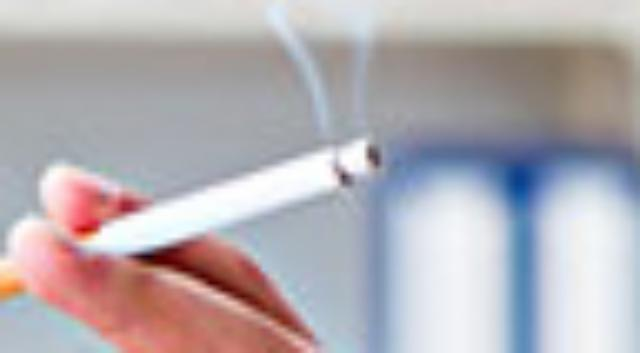Smoking: (0, 136, 382, 302)
